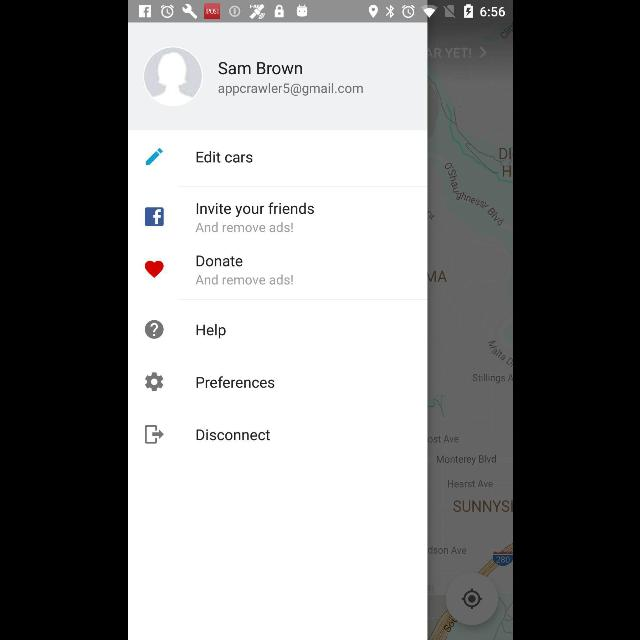icon: (142, 46, 202, 108), (144, 424, 164, 444), (144, 372, 164, 392), (144, 320, 164, 340), (144, 260, 164, 278), (144, 208, 164, 226), (144, 148, 162, 166)
panel: (128, 24, 426, 640)
text: (217, 82, 363, 98), (195, 201, 313, 217), (194, 274, 294, 286), (218, 61, 302, 75), (194, 221, 292, 233), (196, 376, 274, 388), (194, 429, 270, 441), (194, 150, 252, 163), (195, 255, 242, 268), (195, 323, 225, 339)
uppertaskbar: (128, 1, 512, 23)
